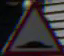Speed Breaker ahead: (9, 5, 56, 50)
